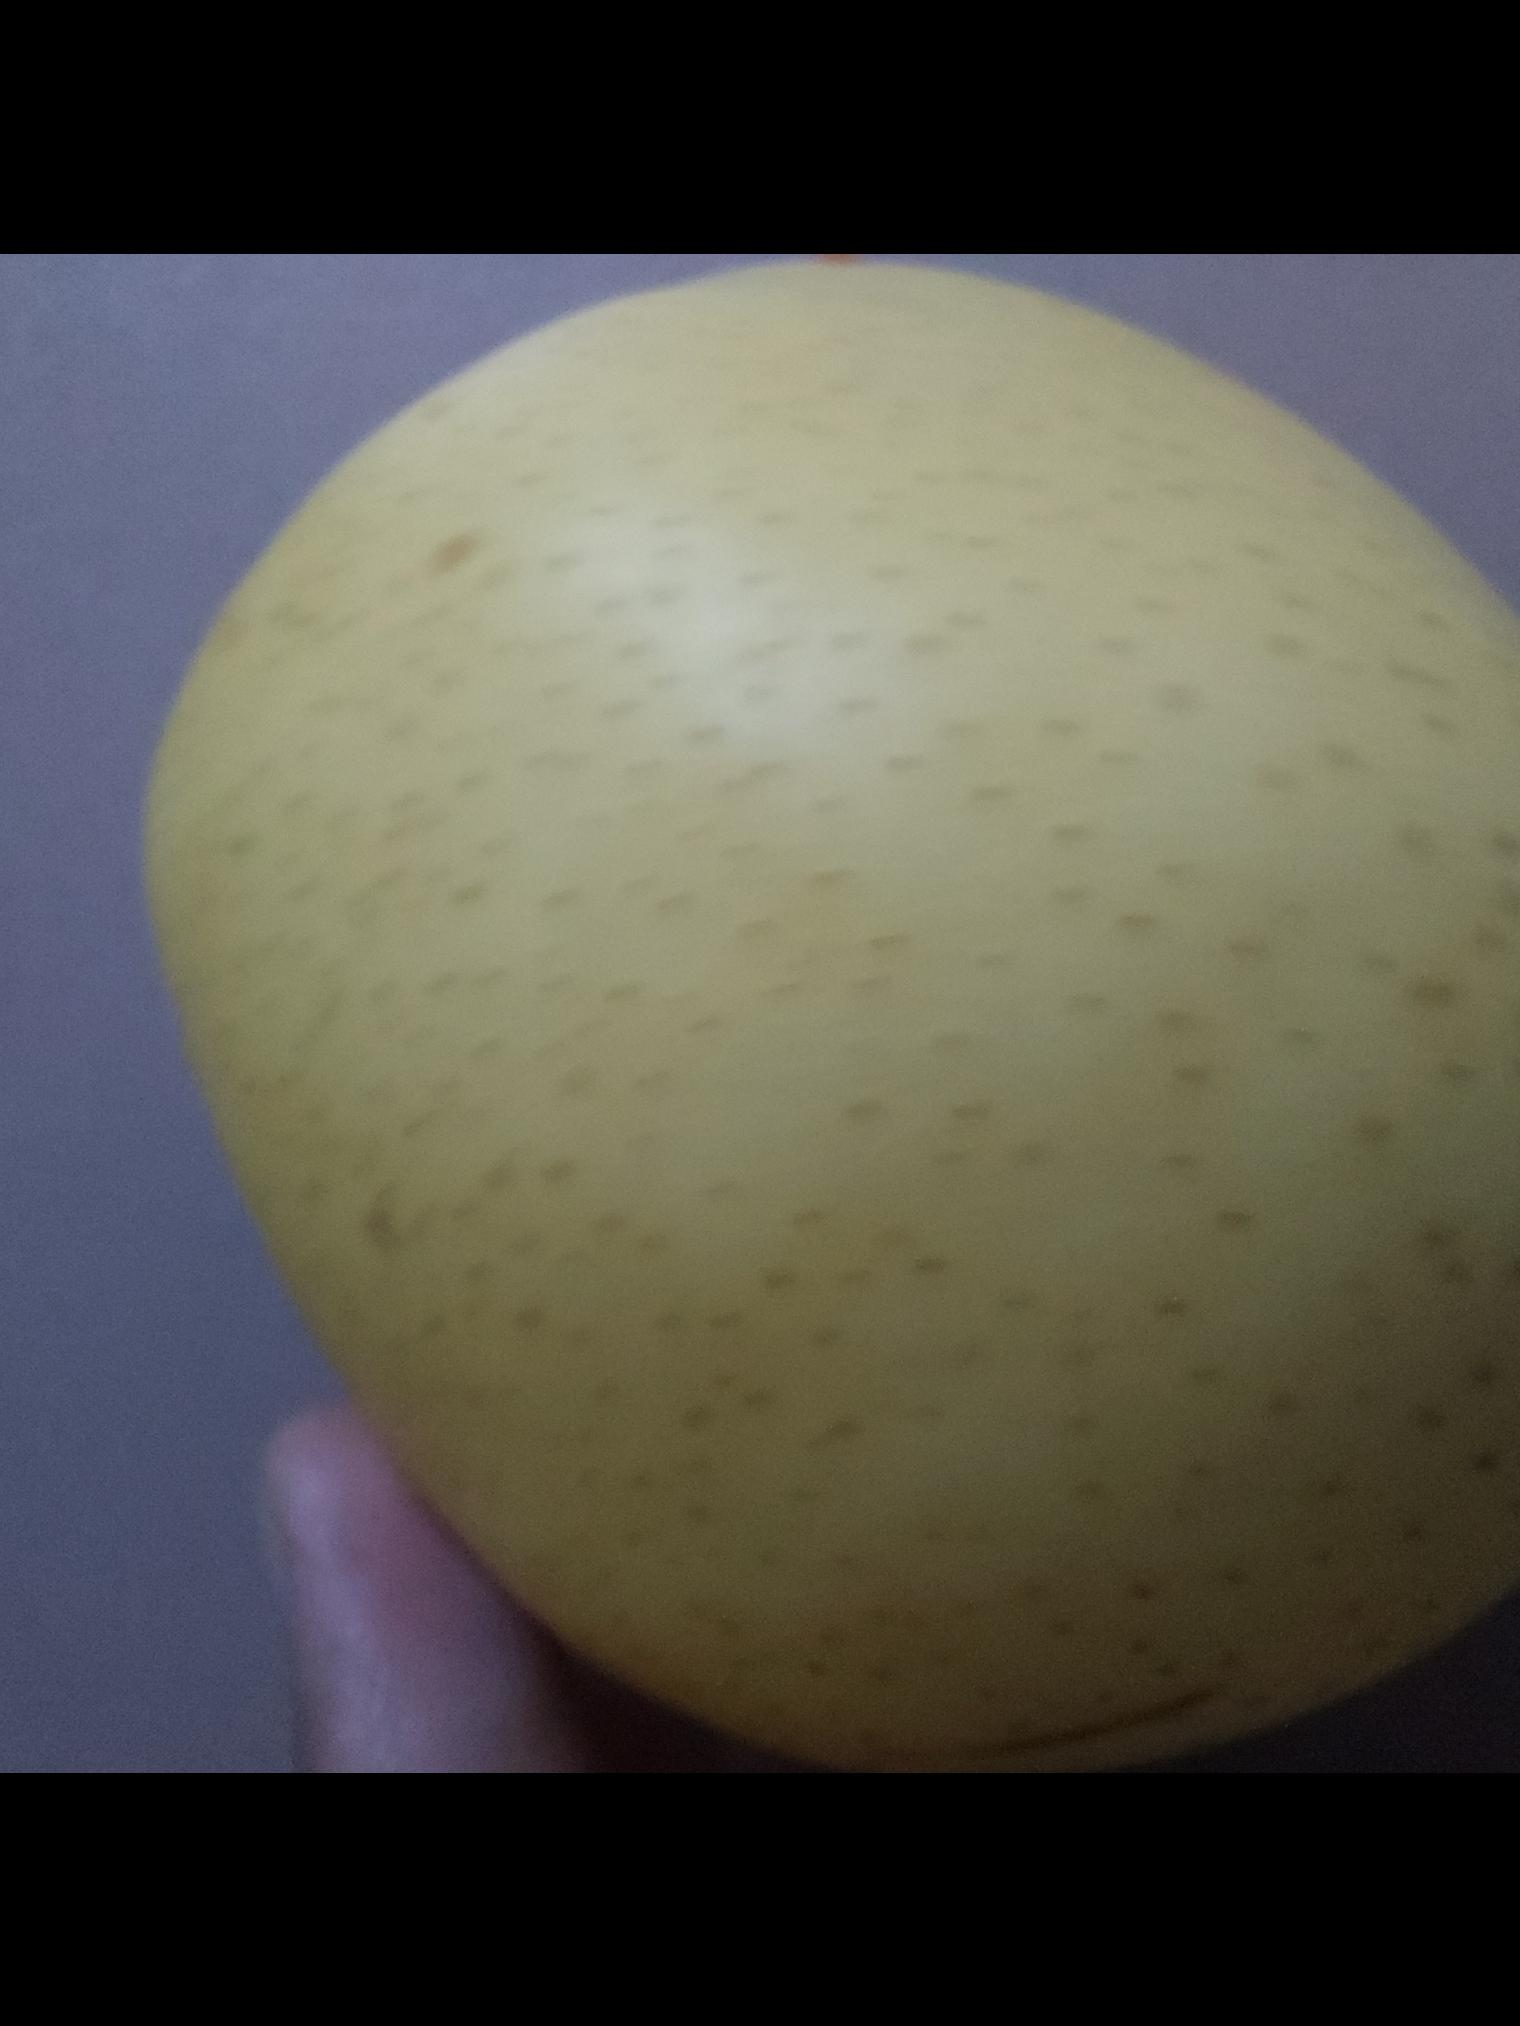Good Pear: (133, 252, 1520, 1743)
